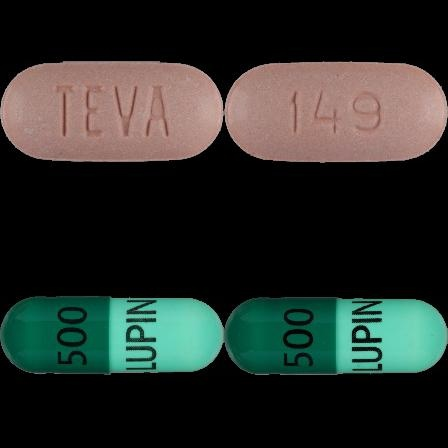10544-010: (0, 0, 224, 224)
